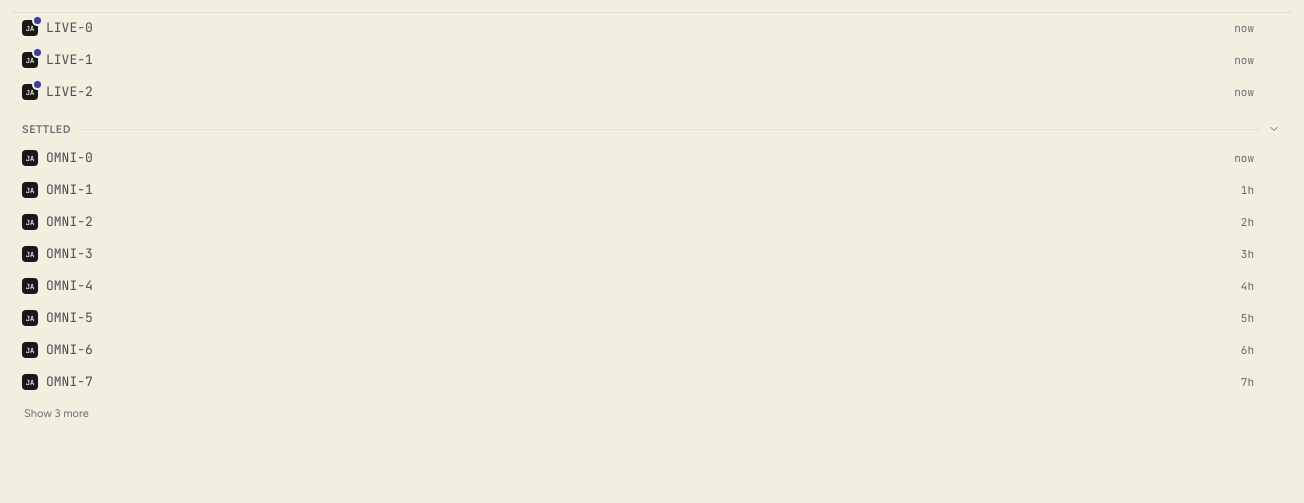
it: the sessions list › shows eight settled rows and the rest behind Show N more, with every live row shown
Expected: the number of buttons "JA LIVE-0 now" is 3, 12,13 -> 1266,43; 12,45 -> 1266,75; 12,77 -> 1266,107
Click the button "Show 3 more" at (56, 413), box 12,399 -> 1292,427
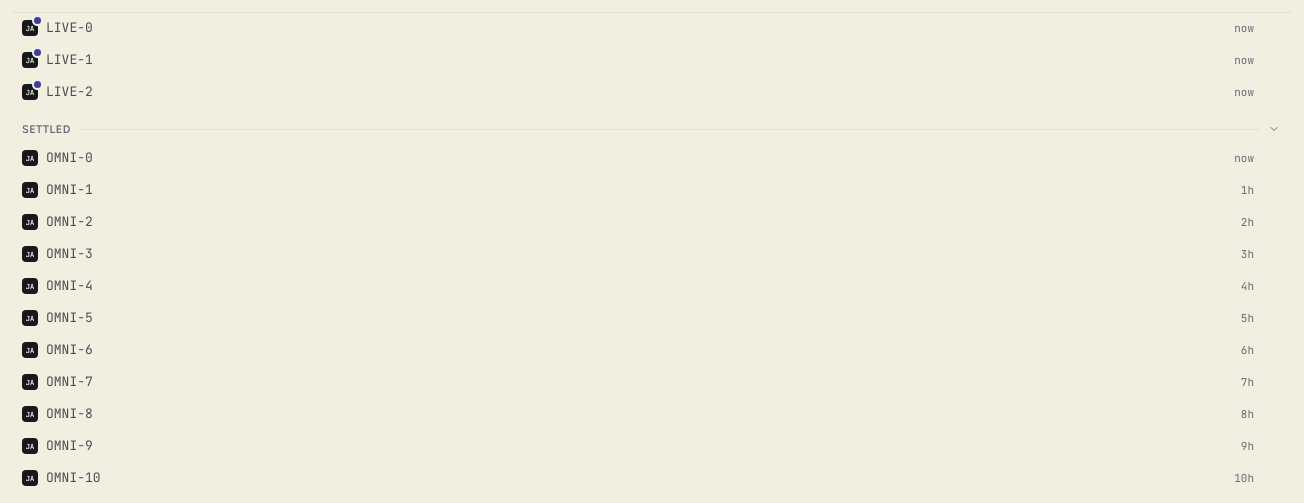
Result: the number of buttons "JA OMNI-0 now" is 11
Result: the button "Show" is gone
